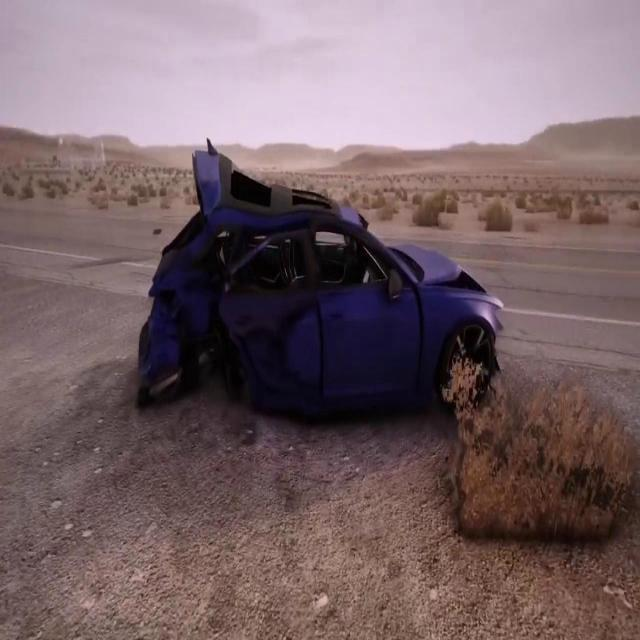severe: (133, 136, 510, 441)
